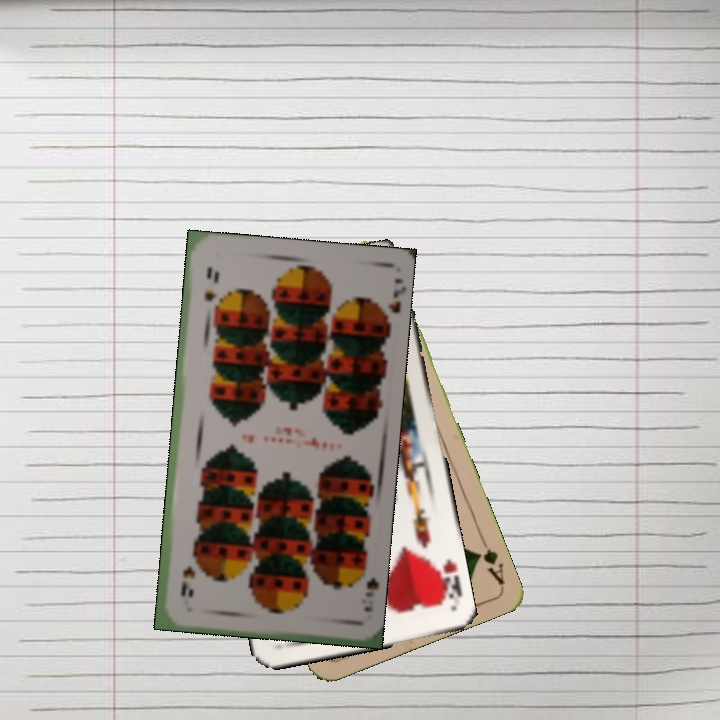GA: (471, 531, 507, 587)
HK: (430, 555, 465, 607)
S9: (352, 561, 379, 615), (200, 262, 219, 304)
